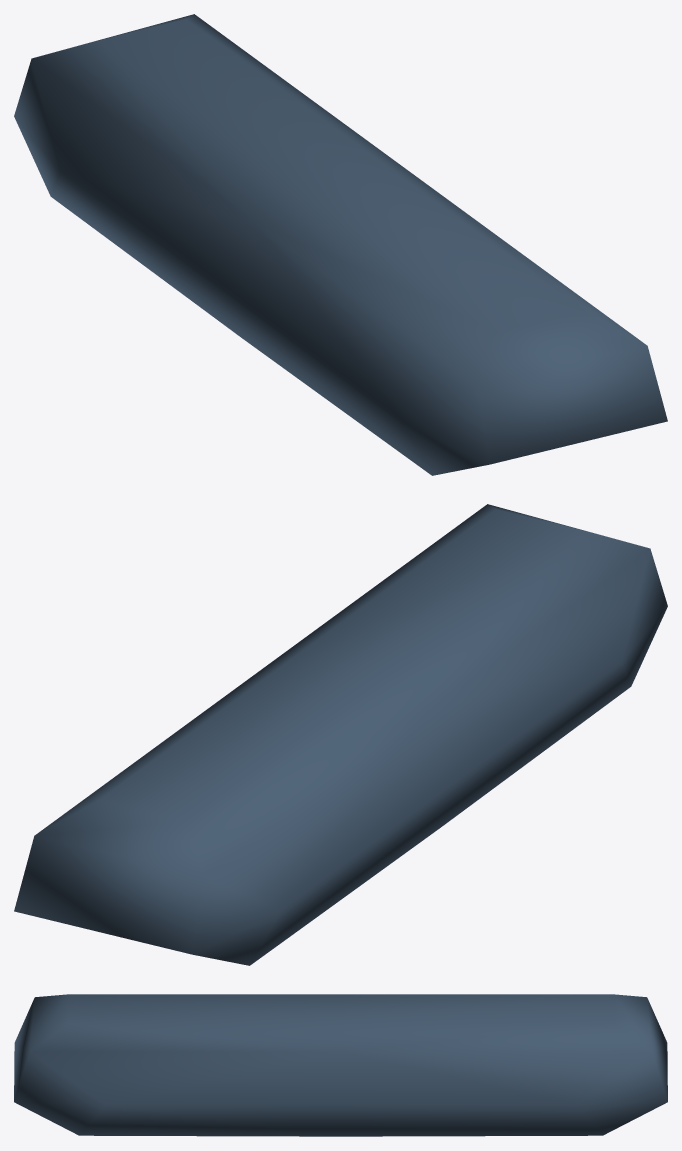
File: blueBanner.obj
3 renders of one model, top to bottom at view 1: azimuth 30°, elevation 25°; view 2: azimuth 150°, elevation 25°; view 3: azimuth 270°, elevation 25°, orthographic. The views are drawn at different scales.
Parts seen in each view (by area): view 1: Cube; view 2: Cube; view 3: Cube.
Part boxes in pixels (left/top/right/bottom): Cube: left=14, top=14, right=667, bottom=475; Cube: left=14, top=504, right=667, bottom=965; Cube: left=14, top=994, right=667, bottom=1136.
Bounding box in the file's own units: 0.1928 × 0.1201 × 0.7562.
